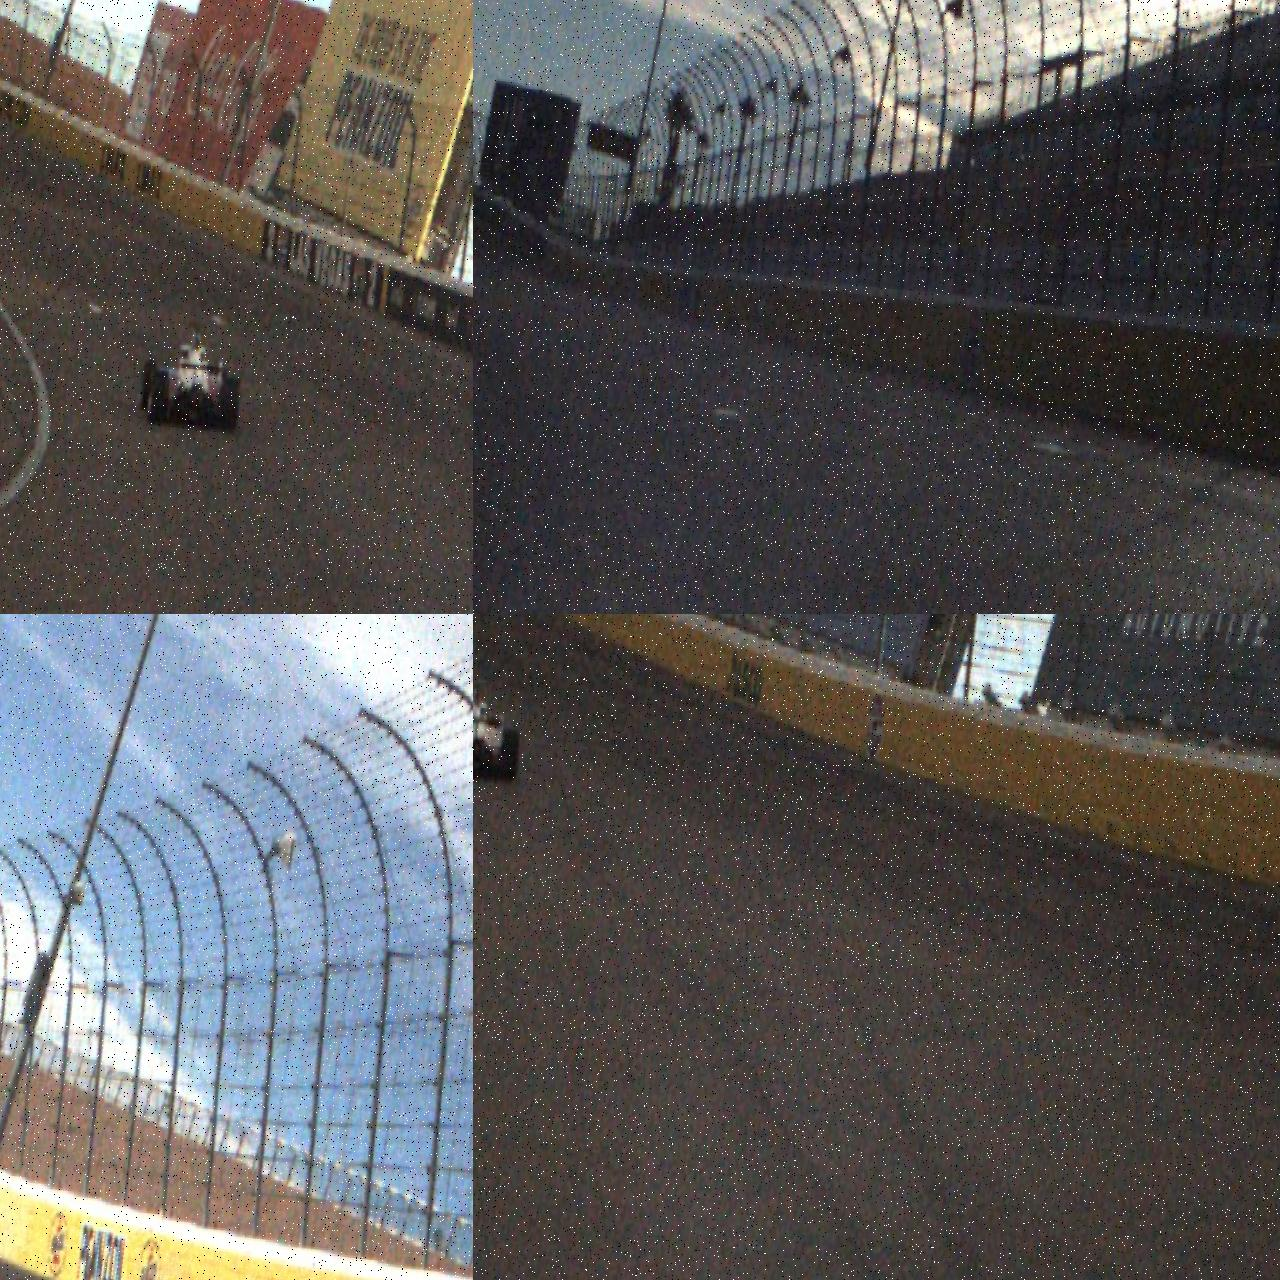AV: (136, 316, 247, 436), (474, 670, 527, 785)
Wheel: (147, 370, 170, 428), (498, 729, 522, 785), (219, 377, 241, 436), (138, 358, 159, 413)
